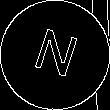N_S: (28, 25, 82, 85)
